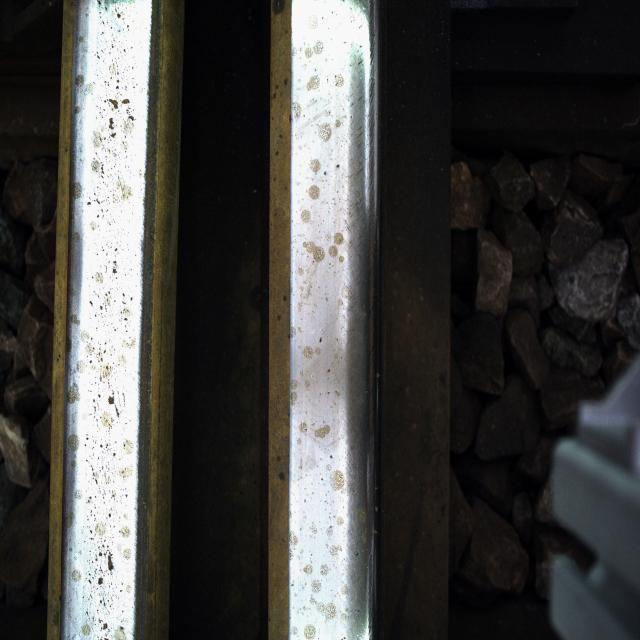scar: (296, 35, 356, 634), (71, 14, 129, 622)
